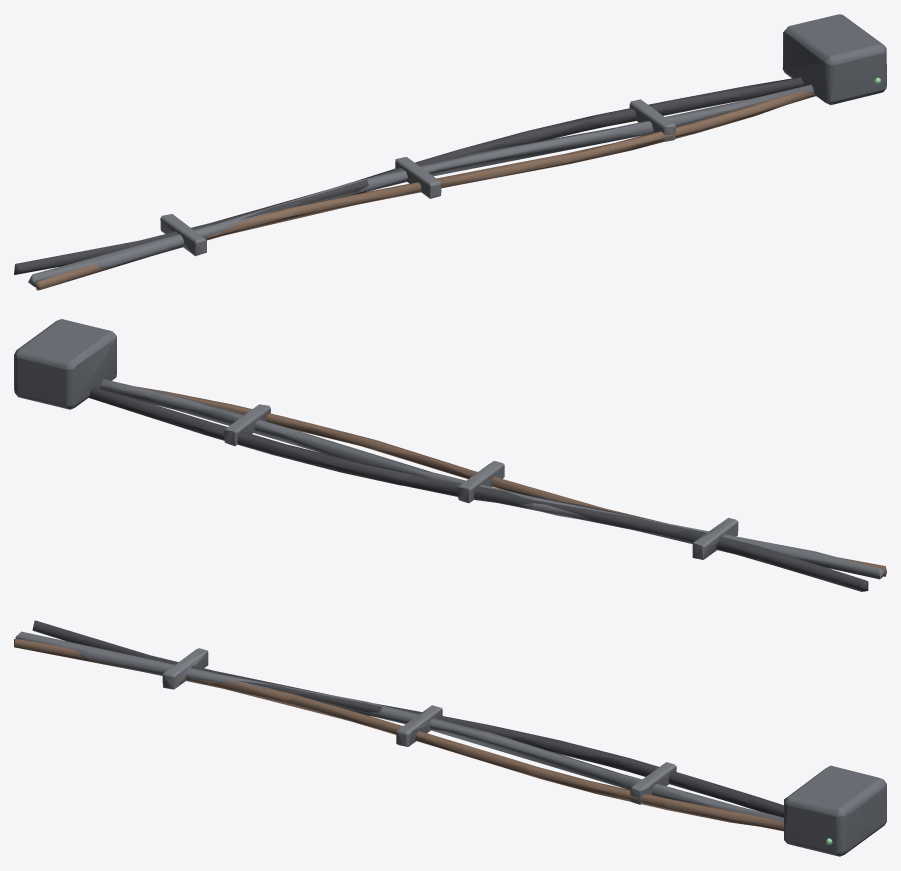
The model's file is cables_sol.glb.
3 views of the same model, one above another, from view 1: azimuth 30°, elevation 25°; view 2: azimuth 150°, elevation 25°; view 3: azimuth 330°, elevation 25° (orthographic).
Visible parts, largest first — view 1: cables_sol; view 2: cables_sol; view 3: cables_sol.
Part boxes in pixels (bbox=[...]): cables_sol: bbox=[14, 14, 886, 290]; cables_sol: bbox=[14, 319, 886, 591]; cables_sol: bbox=[14, 620, 886, 856].
Size of the model in its own units: 3.24 by 0.1829 by 0.3323.
